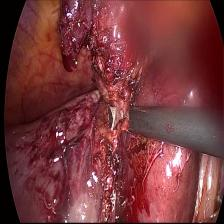Hook: (109, 100, 129, 130)
